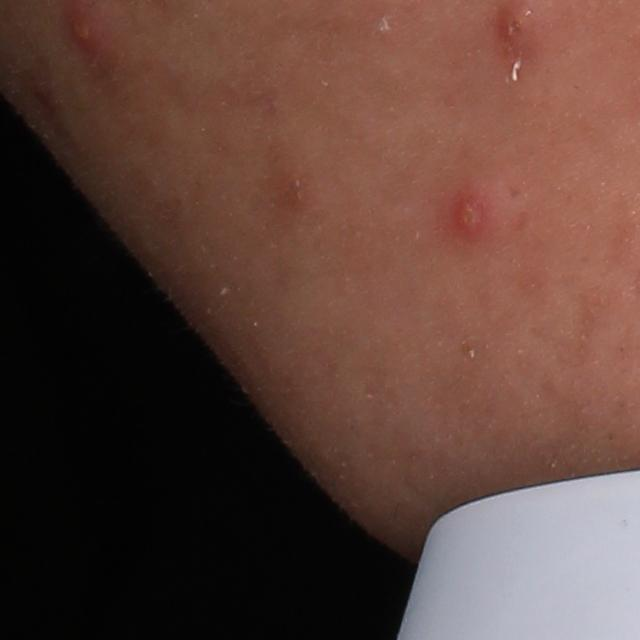pustule: (442, 183, 511, 250)
